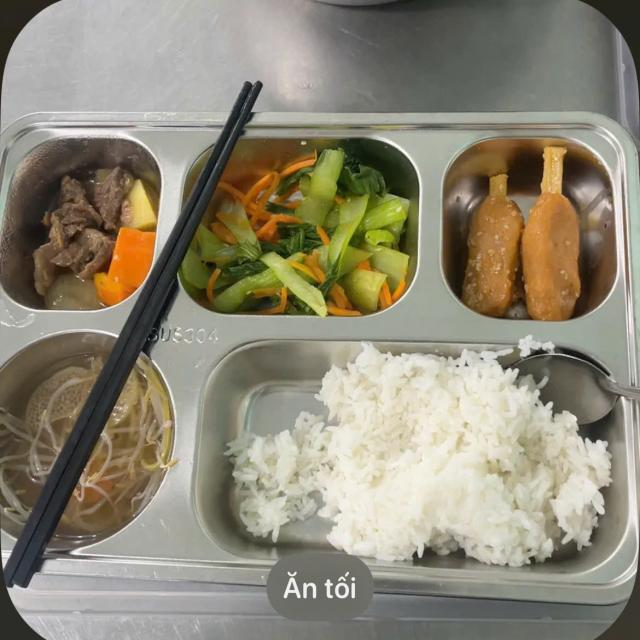canh_chua: (0, 338, 173, 546)
com_trang: (266, 365, 615, 555)
thit_kho: (26, 165, 150, 302)
